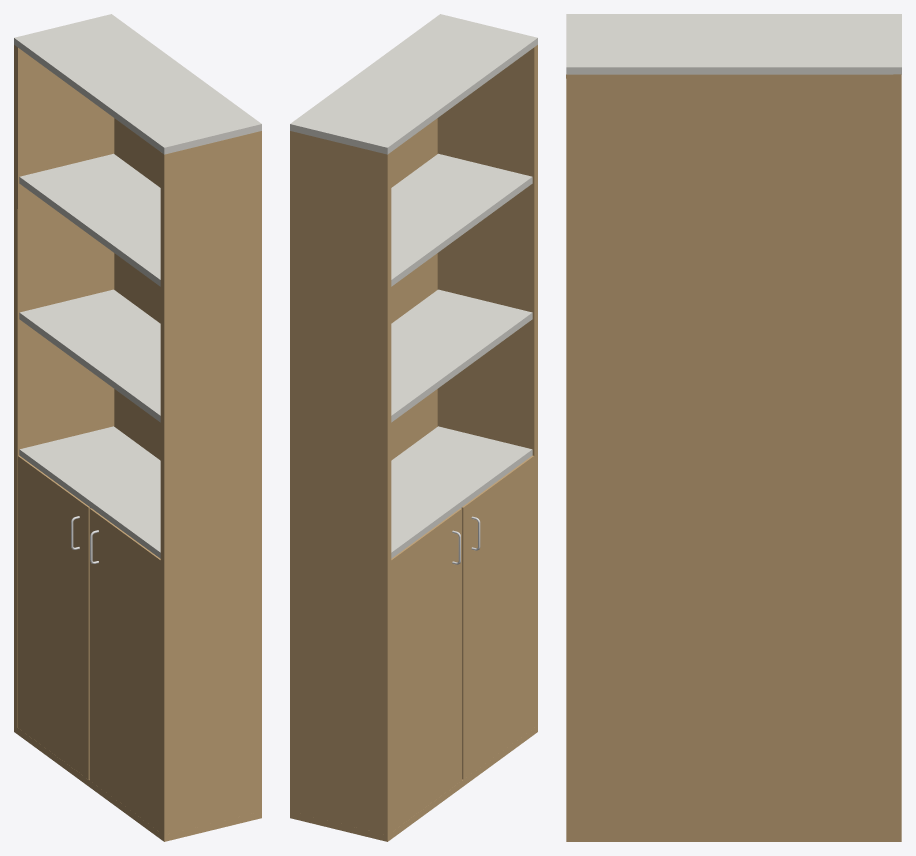
File: bookshelf.fbx
3 renders of one model, left to right at view 1: azimuth 30°, elevation 25°; view 2: azimuth 150°, elevation 25°; view 3: azimuth 270°, elevation 25°, orthographic. The views are drawn at different scales.
Parts seen in each view (by area): view 1: Cabinet, Door, Door.001; view 2: Cabinet, Door, Door.001; view 3: Cabinet.
Boxes of the visible parts, box(x1,y1,x2,y2) form: Cabinet: box(14, 14, 261, 841); Door: box(89, 508, 160, 831); Door.001: box(18, 455, 89, 779); Cabinet: box(290, 14, 537, 841); Door: box(461, 455, 534, 779); Door.001: box(391, 508, 461, 831); Cabinet: box(566, 14, 901, 841).
Bounding box in the file's own units: 32.5 × 204 × 80.03.
